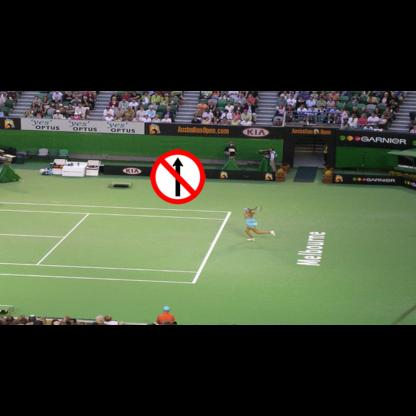R-3: (150, 149, 205, 204)
